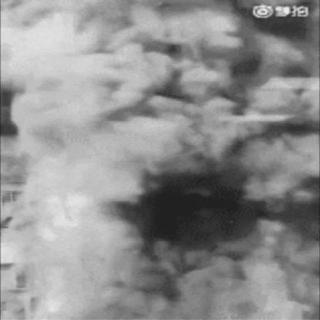Fire: (179, 213, 313, 317)
